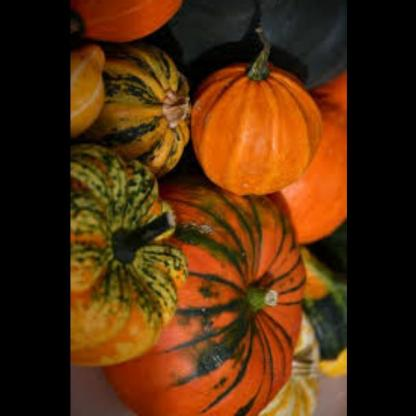pumpkin: (106, 186, 314, 416), (70, 135, 190, 380), (186, 62, 323, 200), (272, 72, 347, 248), (98, 45, 195, 171), (254, 309, 328, 416), (72, 0, 181, 67)
